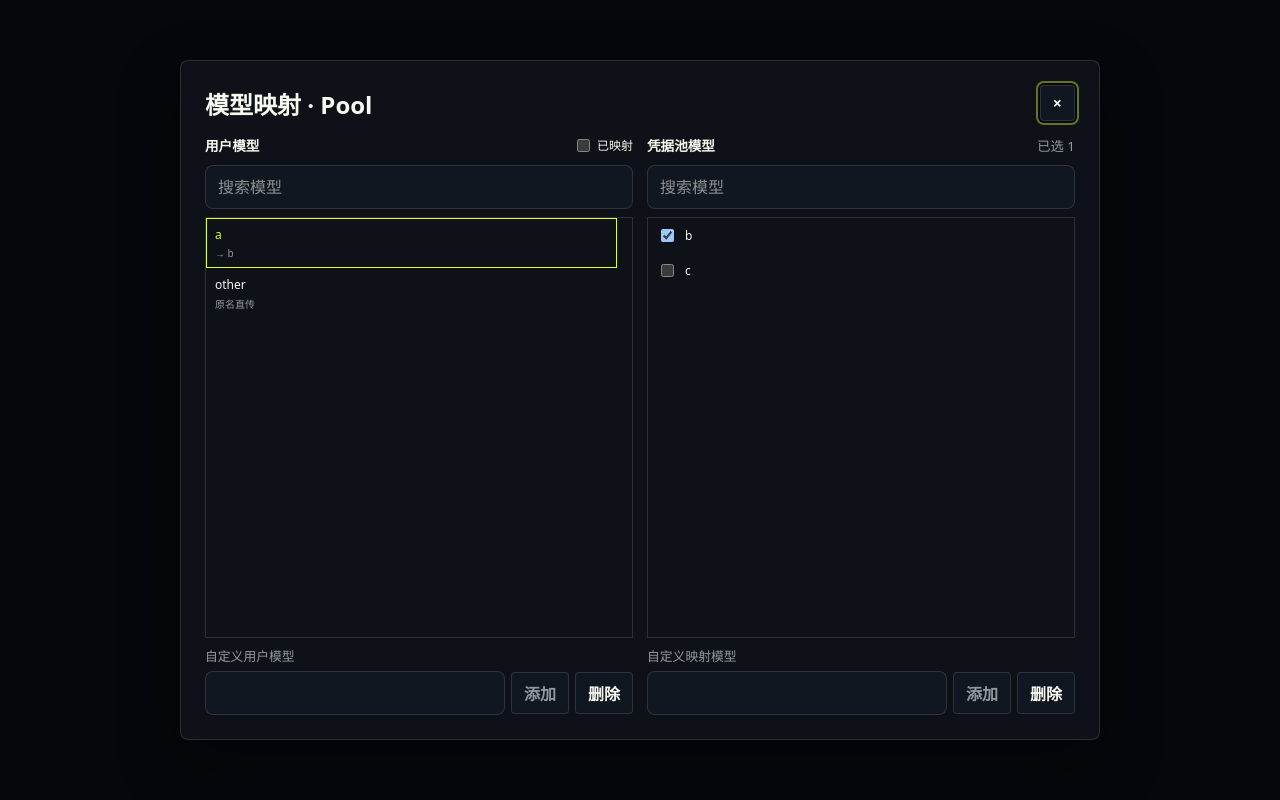
shows mapping targets, filters mapped sources and searches targets without dropping hidden selections
expect the button "a → b" is shown: met, box [206, 218, 617, 268]
Click the checkbox labelled "已映射" at coordinates (584, 145), box [577, 138, 590, 152]
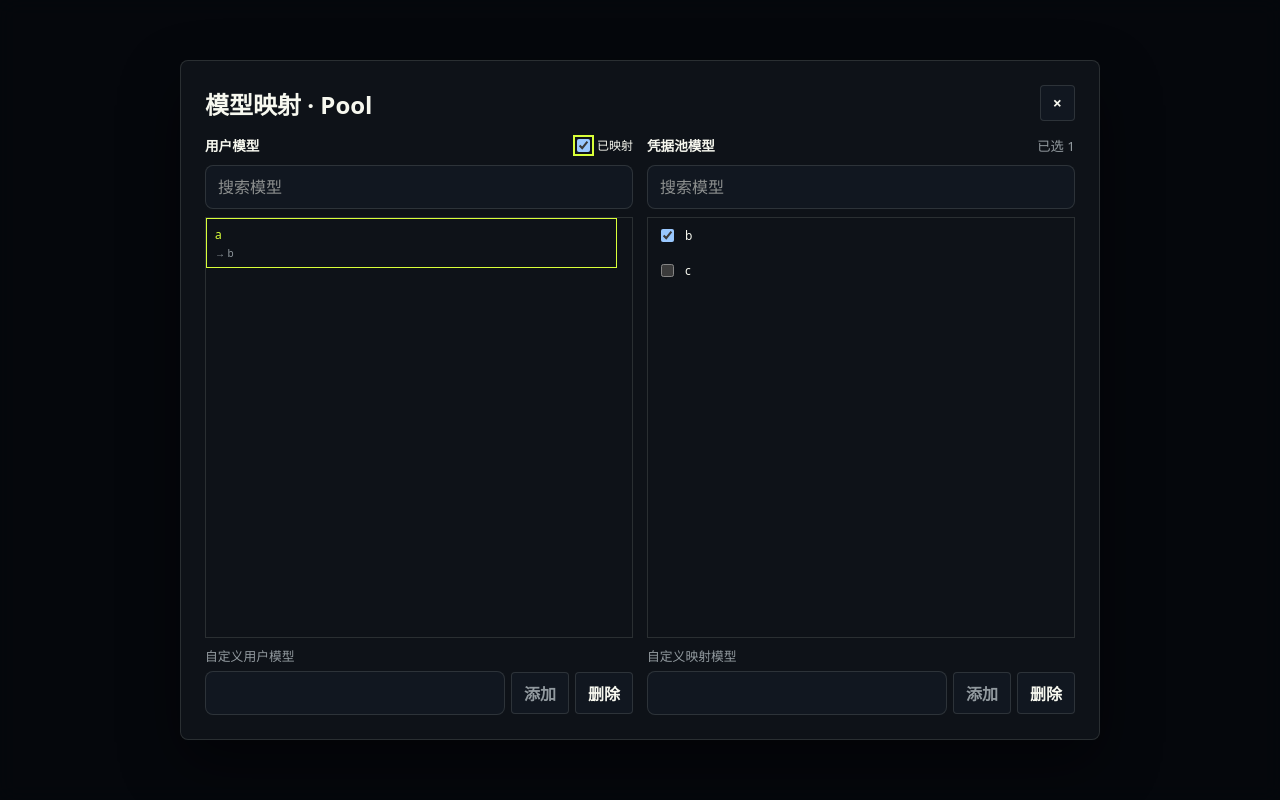
expect the button "other" is gone: met
Type "c" into the field named "搜索凭据池模型" at coordinates (861, 187), box [647, 165, 1075, 209]
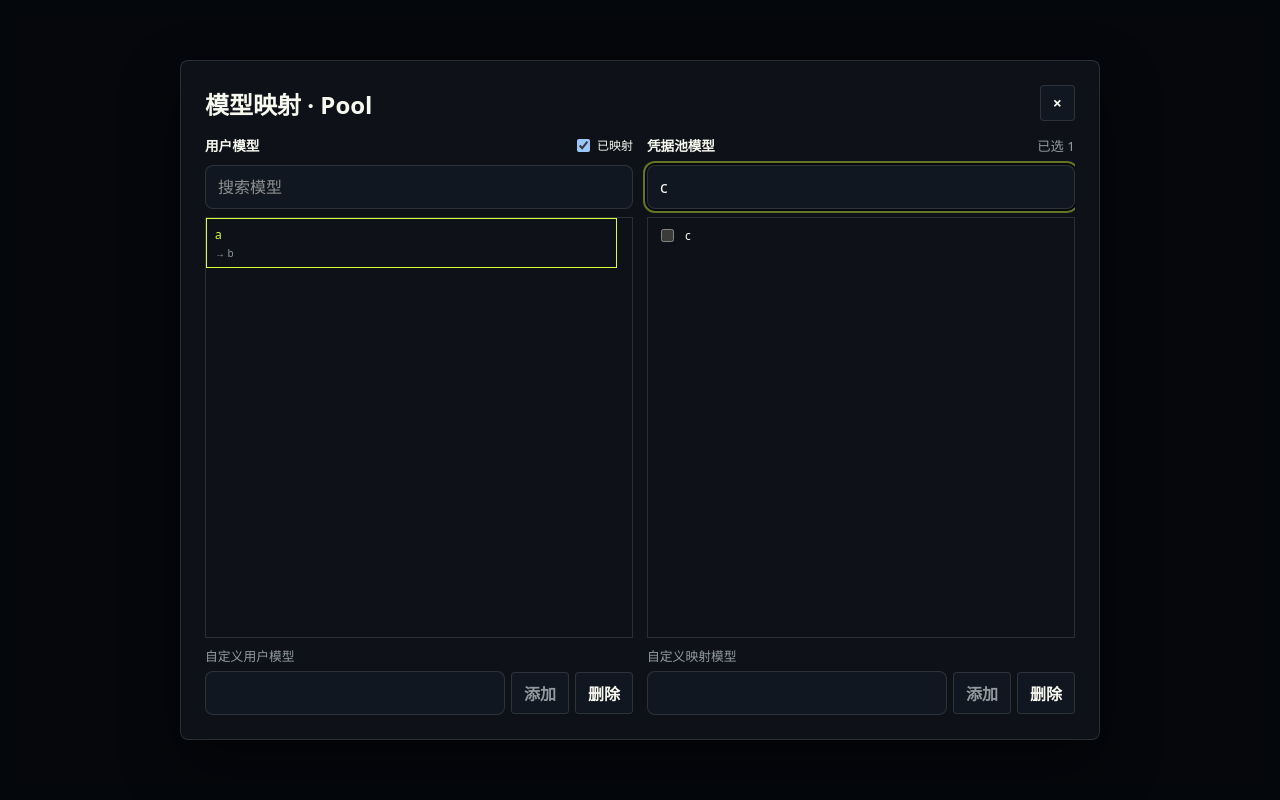
Click the checkbox labelled "c" at coordinates (668, 236), box [661, 229, 674, 242]
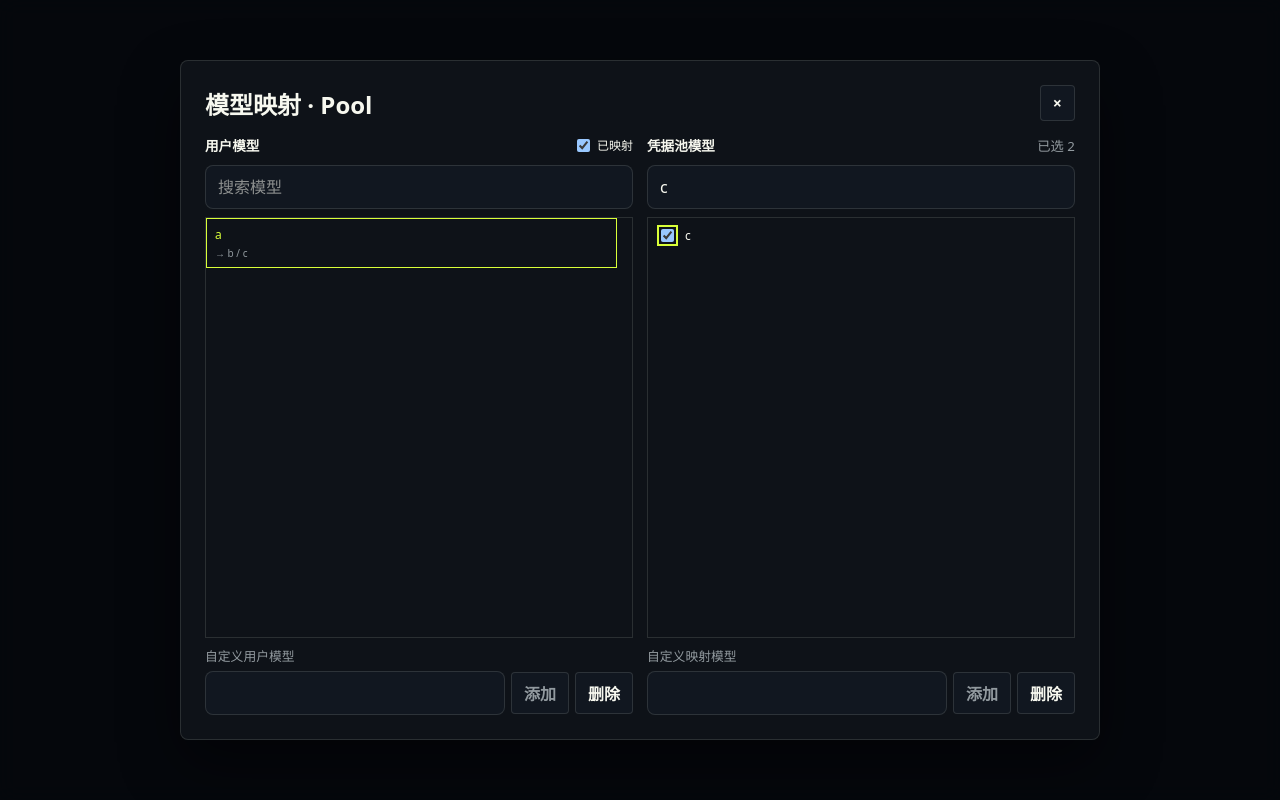
expect the text "已选 2" is shown: met, box [1037, 136, 1075, 154]
Click the button with aria-label "删除映射模型" at coordinates (1046, 693), box [1017, 672, 1075, 714]
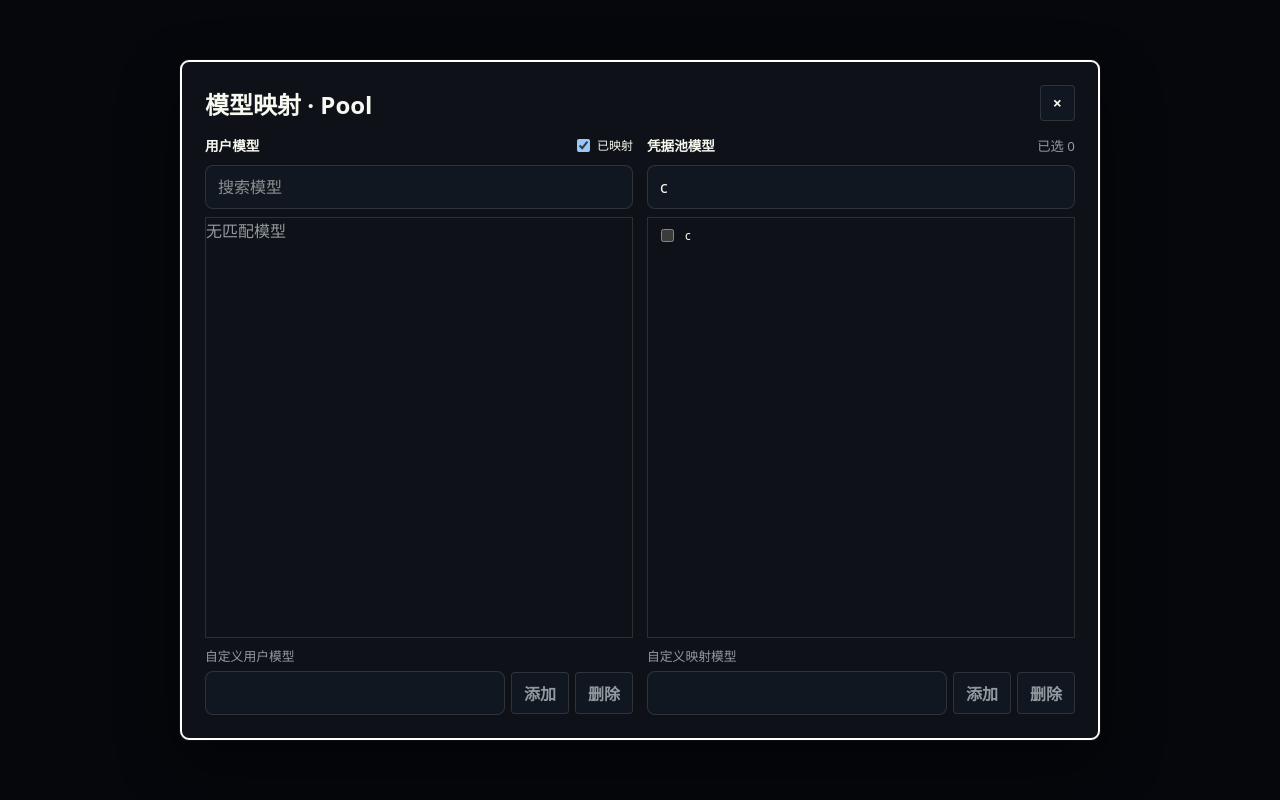
expect the text "已选 0" is shown: met, box [1037, 136, 1075, 154]
